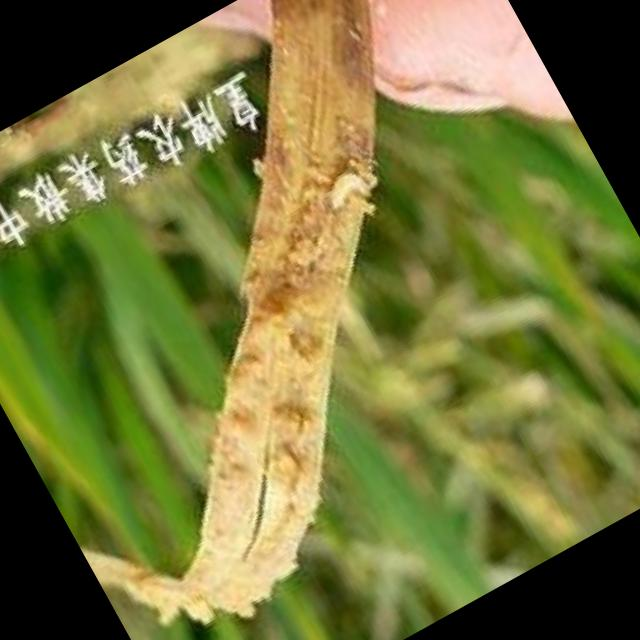whorl-maggot: (307, 146, 389, 228)
